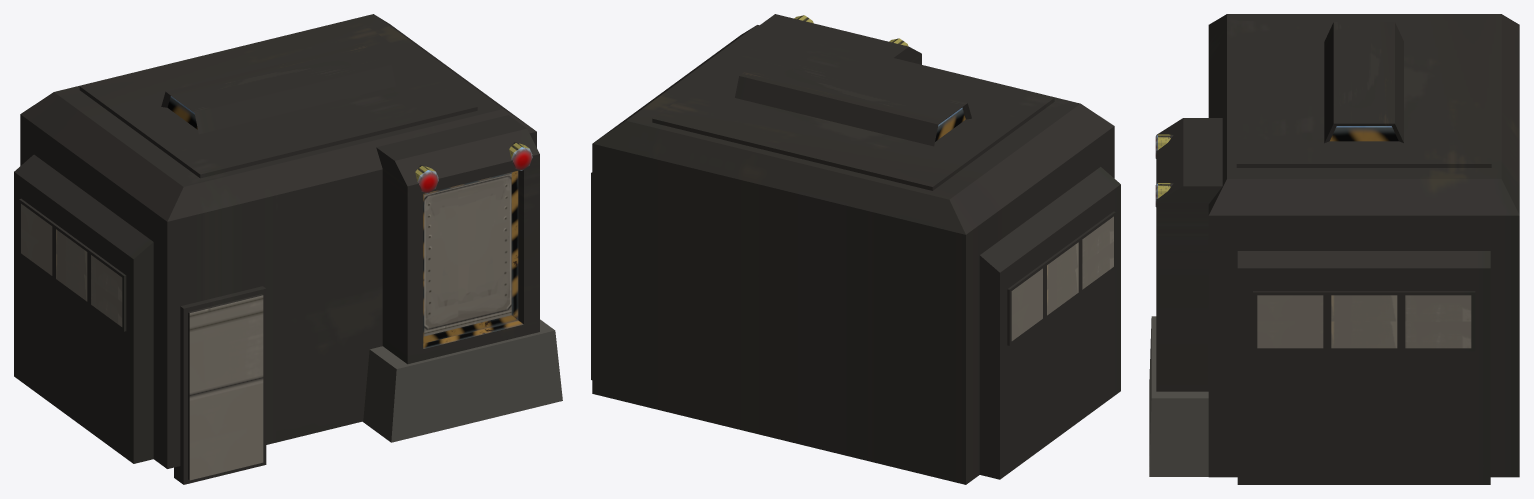
File: house.dae
3 views of the same model, side by side, from view 1: azimuth 30°, elevation 25°; view 2: azimuth 150°, elevation 25°; view 3: azimuth 270°, elevation 25° (orthographic). The views are drawn at different scales.
Parts seen in each view (by area): view 1: house; view 2: house; view 3: house.
Boxes of the visible parts, left/top/right/bottom form: house: left=14, top=14, right=562, bottom=484; house: left=591, top=14, right=1120, bottom=484; house: left=1149, top=14, right=1519, bottom=484.
Bounding box in the file's own units: 14.53 × 10.78 × 10.48.
